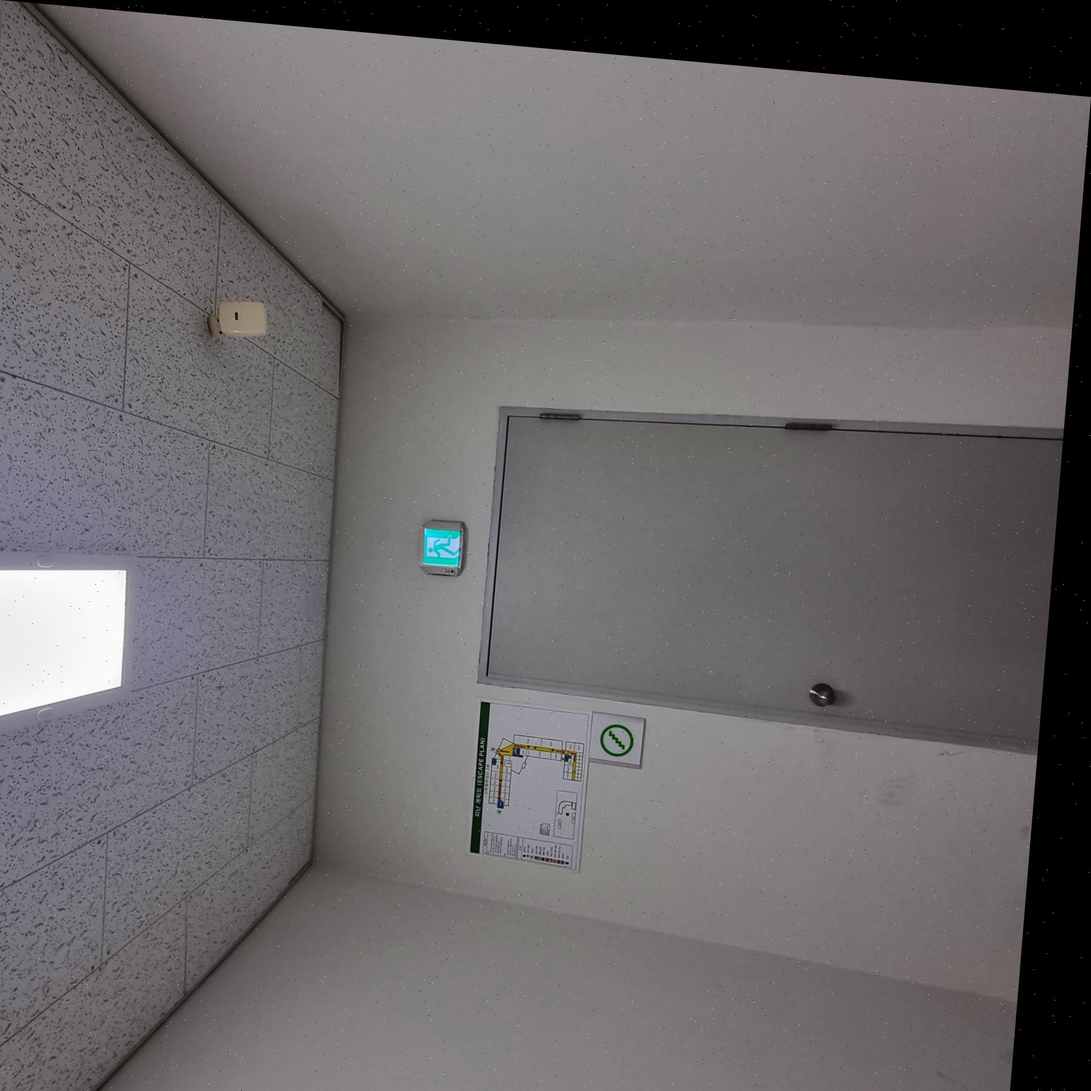emergency_exit: (469, 699, 592, 873), (588, 711, 646, 769), (420, 520, 466, 576)
